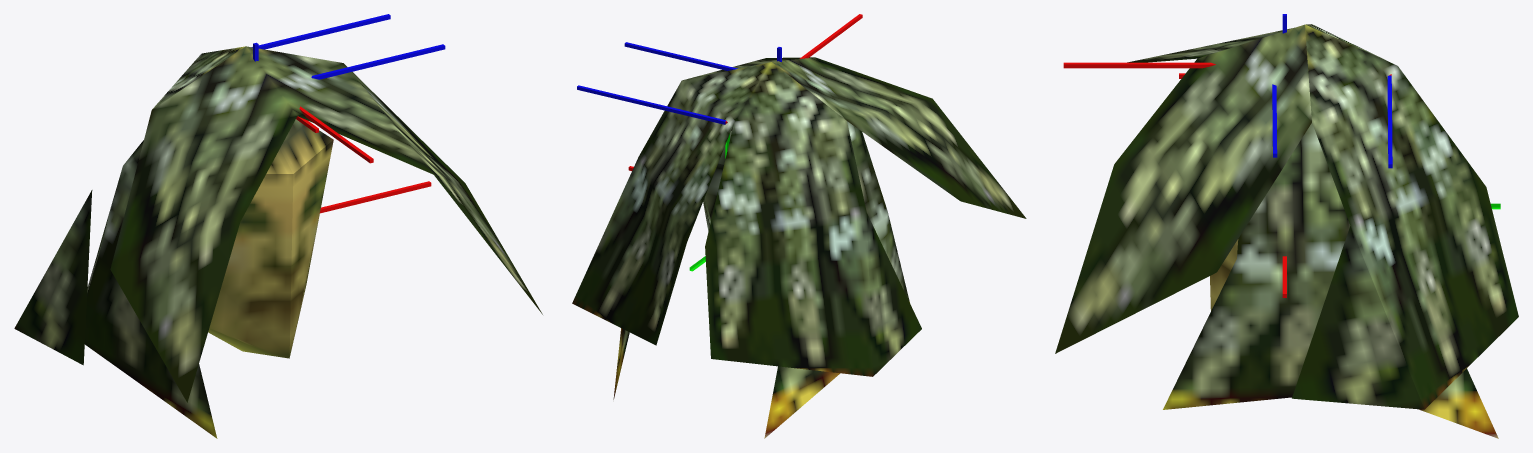
File: medusa-head.glb
The picture shows the model from 3 angles, left to right: view 1: azimuth 30°, elevation 25°; view 2: azimuth 150°, elevation 25°; view 3: azimuth 270°, elevation 25°; orthographic projection. The views are drawn at different scales.
Parts seen in each view (by area): view 1: special g medusa_headModel, Dummy_topofhead, Dummy_attachpoint, Dummy_hotspot; view 2: special g medusa_headModel, Dummy_topofhead, Dummy_attachpoint; view 3: special g medusa_headModel, Dummy_topofhead, Dummy_attachpoint.
Part boxes in pixels (<box>): special g medusa_headModel: <box>14,46,542,438</box>; Dummy_topofhead: <box>299,44,445,163</box>; Dummy_attachpoint: <box>251,14,390,132</box>; Dummy_hotspot: <box>253,42,431,213</box>; special g medusa_headModel: <box>572,57,1026,438</box>; Dummy_topofhead: <box>624,14,862,70</box>; Dummy_attachpoint: <box>577,85,729,158</box>; special g medusa_headModel: <box>1055,24,1518,438</box>; Dummy_topofhead: <box>1063,62,1277,157</box>; Dummy_attachpoint: <box>1179,73,1392,168</box>.
Size of the model in its own units: 0.5138 by 0.4873 by 0.543.
Materials: 2 (1 with a texture image).
